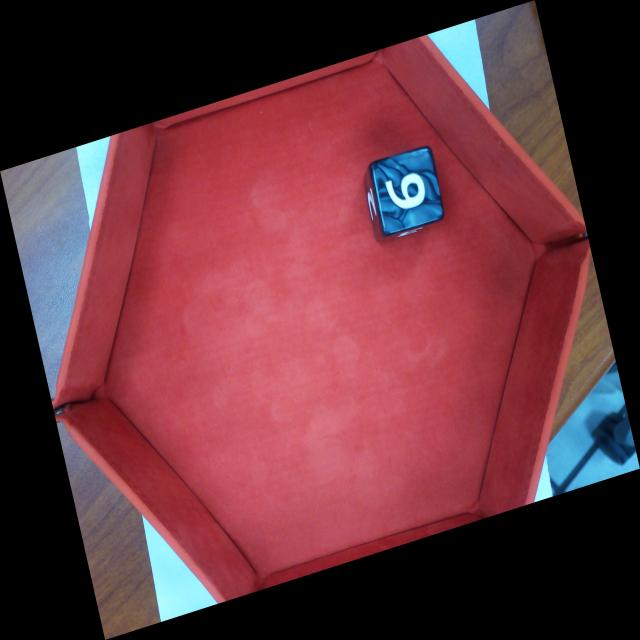dice: (375, 151, 444, 231)
